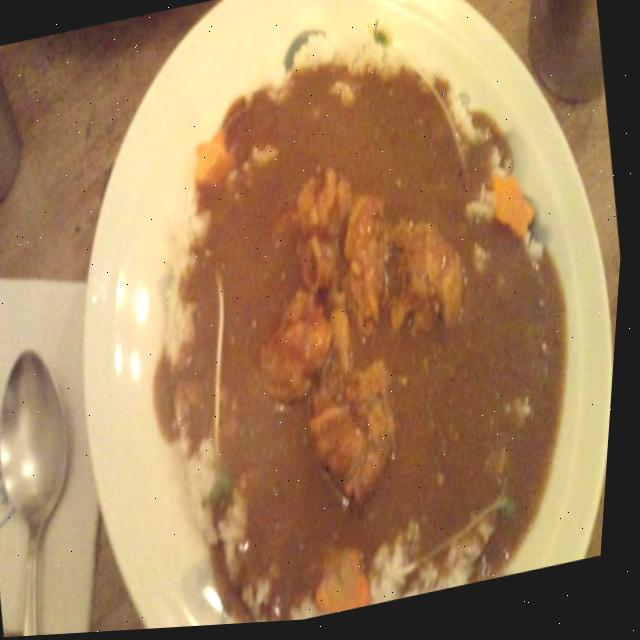牛肉菜式: (69, 0, 635, 635)
